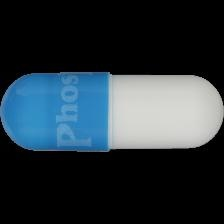49230-640: (0, 0, 224, 224)
